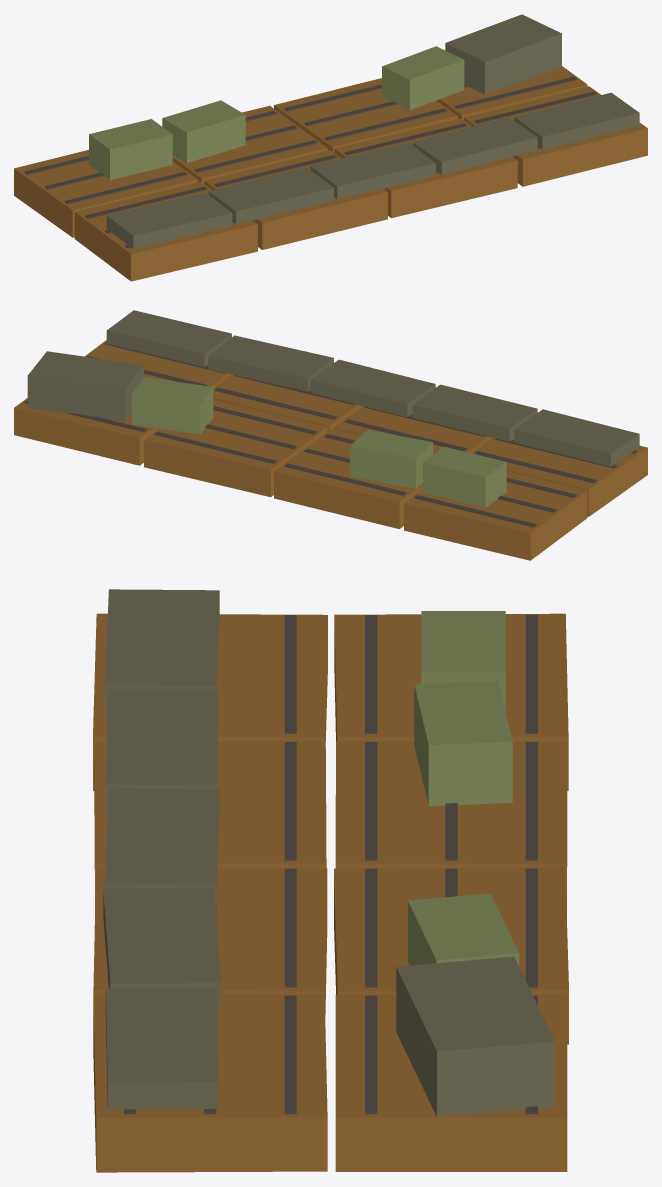
Rendered from SM_Banqueta_v4_LOD0.fbx.
3 views of the same model, one above another, from view 1: azimuth 30°, elevation 25°; view 2: azimuth 150°, elevation 25°; view 3: azimuth 270°, elevation 25° (orthographic). The views are drawn at different scales.
Visible parts, largest first — view 1: SM_banqueta_tiro_v4_LOD0; view 2: SM_banqueta_tiro_v4_LOD0; view 3: SM_banqueta_tiro_v4_LOD0.
Part boxes in pixels (<box>): SM_banqueta_tiro_v4_LOD0: <box>14,14,647,281</box>; SM_banqueta_tiro_v4_LOD0: <box>14,310,647,560</box>; SM_banqueta_tiro_v4_LOD0: <box>93,589,568,1172</box>.
Size of the model in its own units: 4.95 by 0.55 by 1.98.
